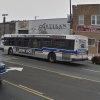Bus: (4, 26, 88, 67)
